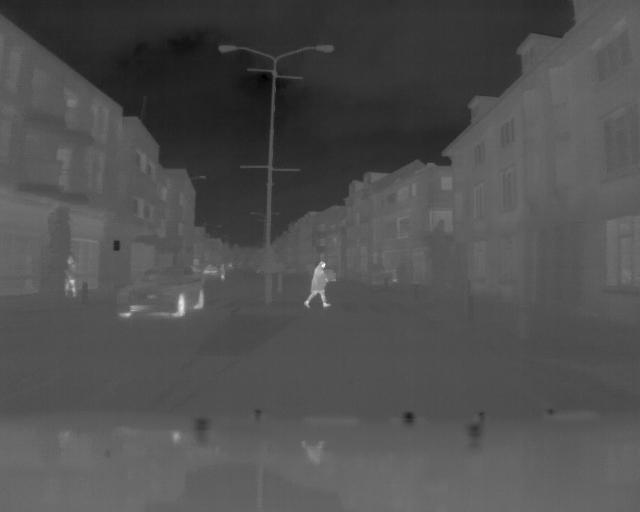car: (115, 270, 209, 325)
person: (309, 258, 331, 312), (61, 253, 77, 296)
